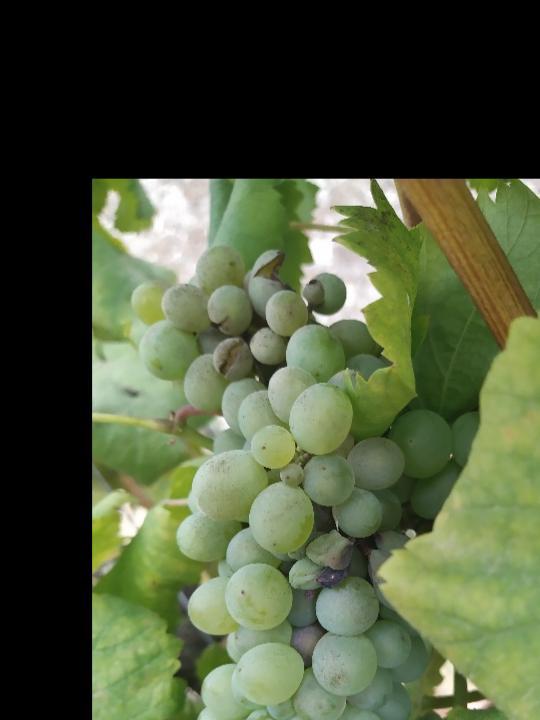grape: (137, 241, 456, 720)
